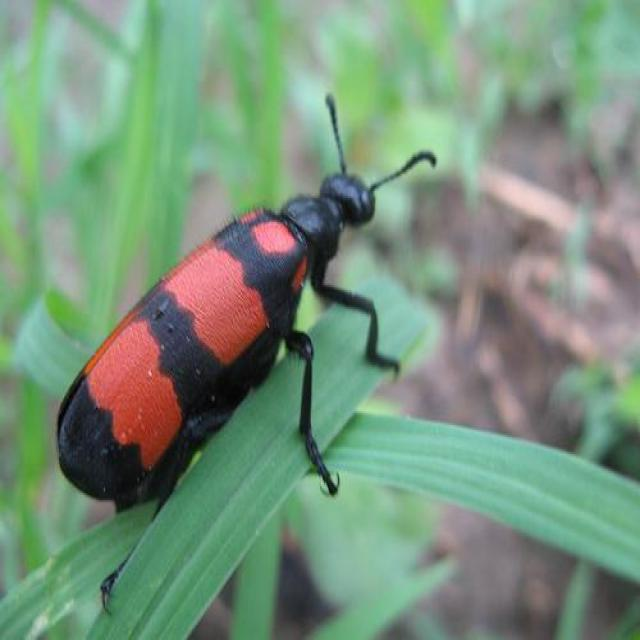BlisterBeetle-Adult-: (52, 85, 442, 508)
